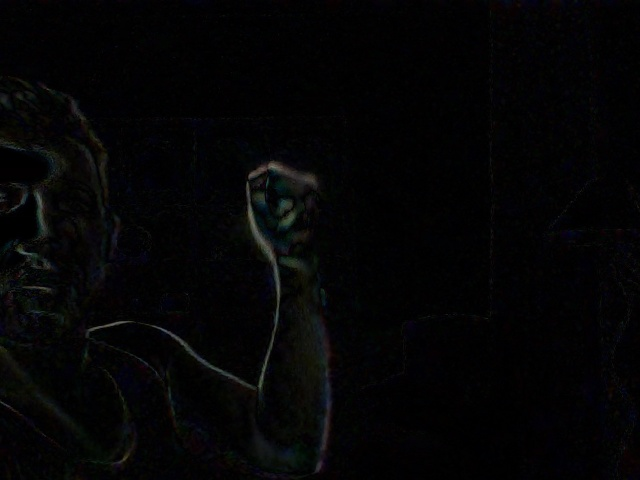hand_fi: (238, 157, 346, 277)
